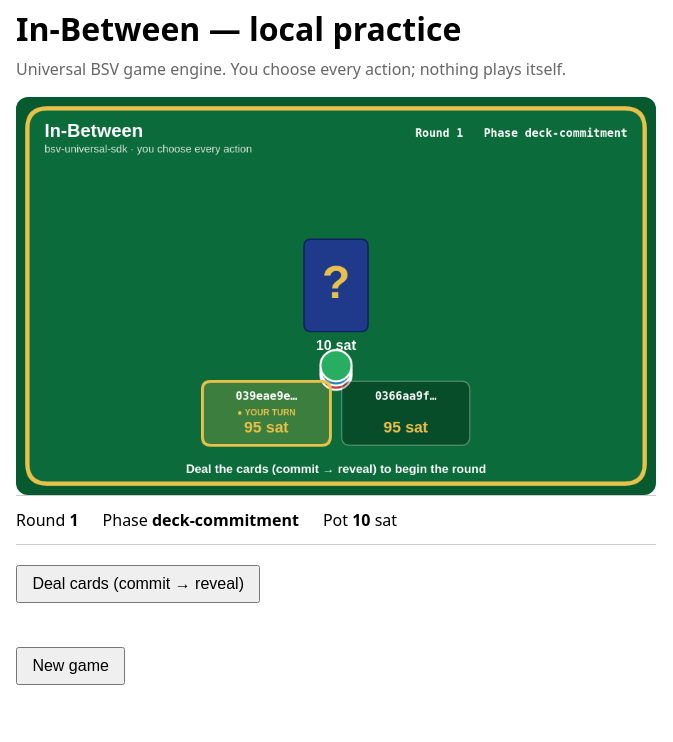
client-web UI › advances only when the human clicks (deal → bet menu appears)
The image size is (673, 742).
What coordinates should you click on to do the following:
click the button with test id "deal"
I would click on:
 (138, 584)
Its box is [16,565,260,603].
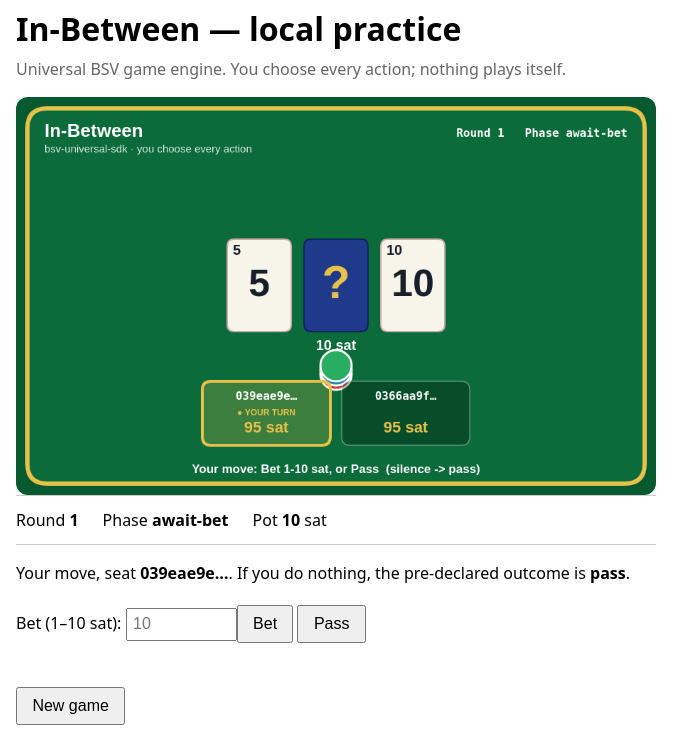
Result: the button with test id "bet" showing "Bet" is shown at [237,605,294,643]
Result: the button with test id "pass" is shown at [298,605,366,643]
Result: the text with test id "timeout" reads "pass" at [590,562,626,584]
